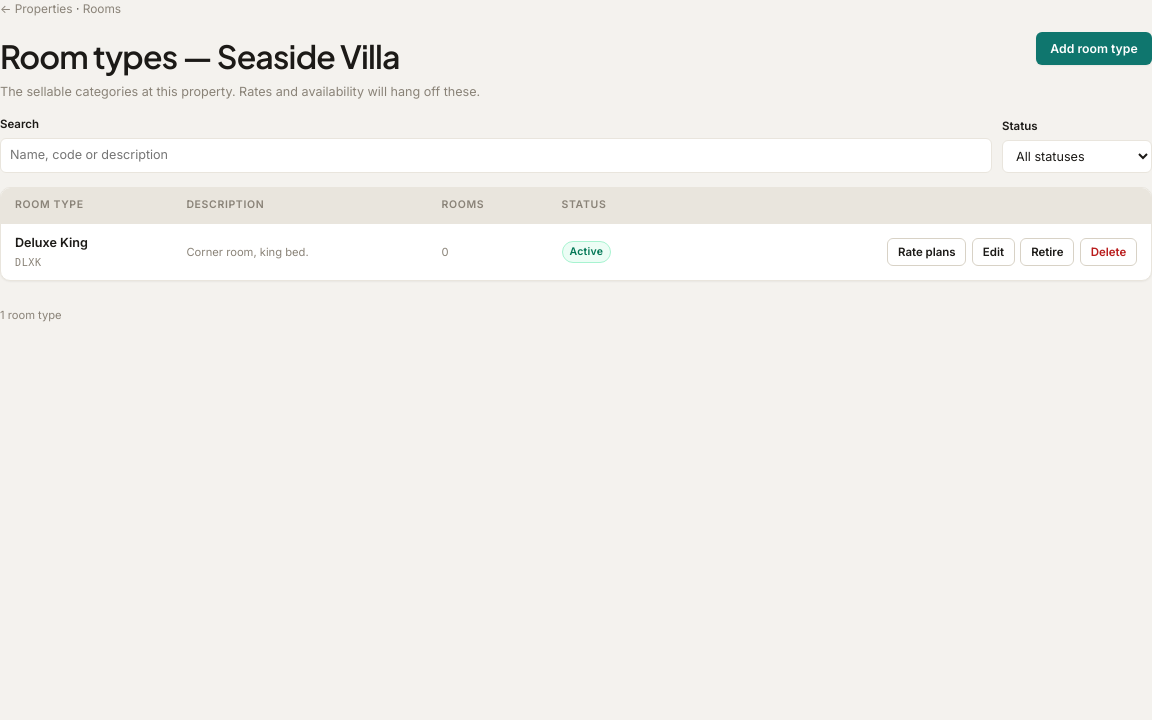
Scenario: RoomTypesPage — create and edit › surfaces a duplicate-name conflict from the API
Expected: the text "Deluxe King" is shown, [15,235,88,250]
Click the button "Edit" at (993, 252), box [972,238,1015,266]
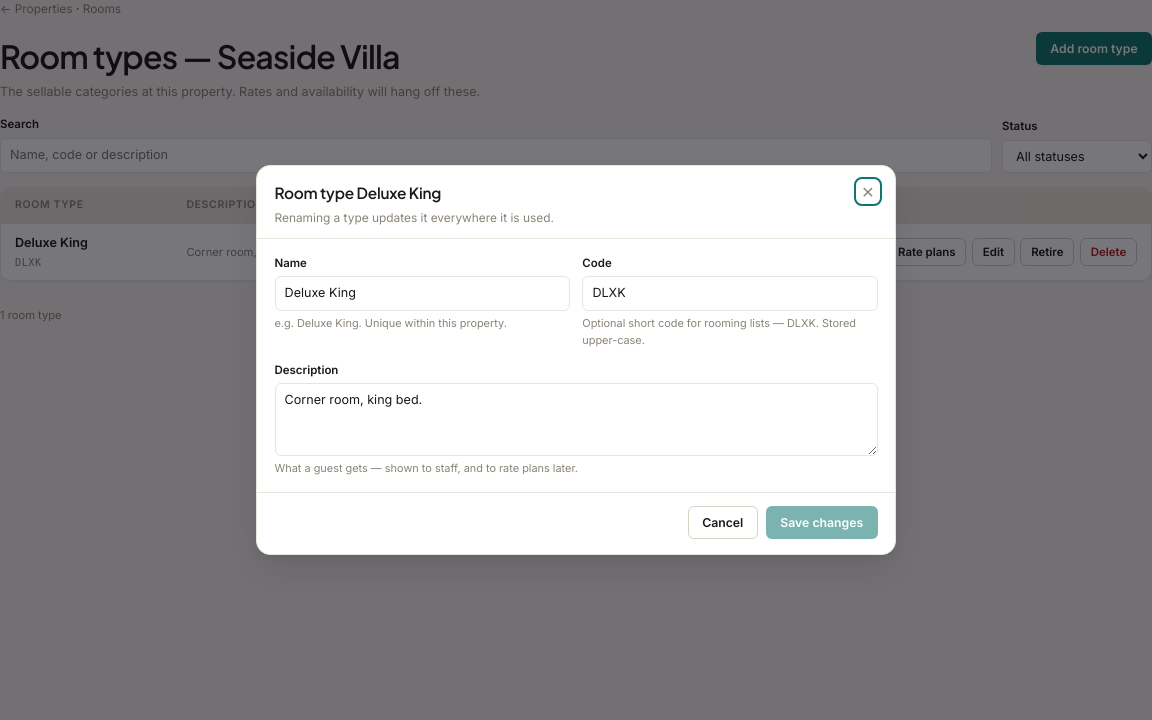
Replace the text in the field labelled "Name" with "Garden Suite" at (422, 294), box [274,276,570,311]
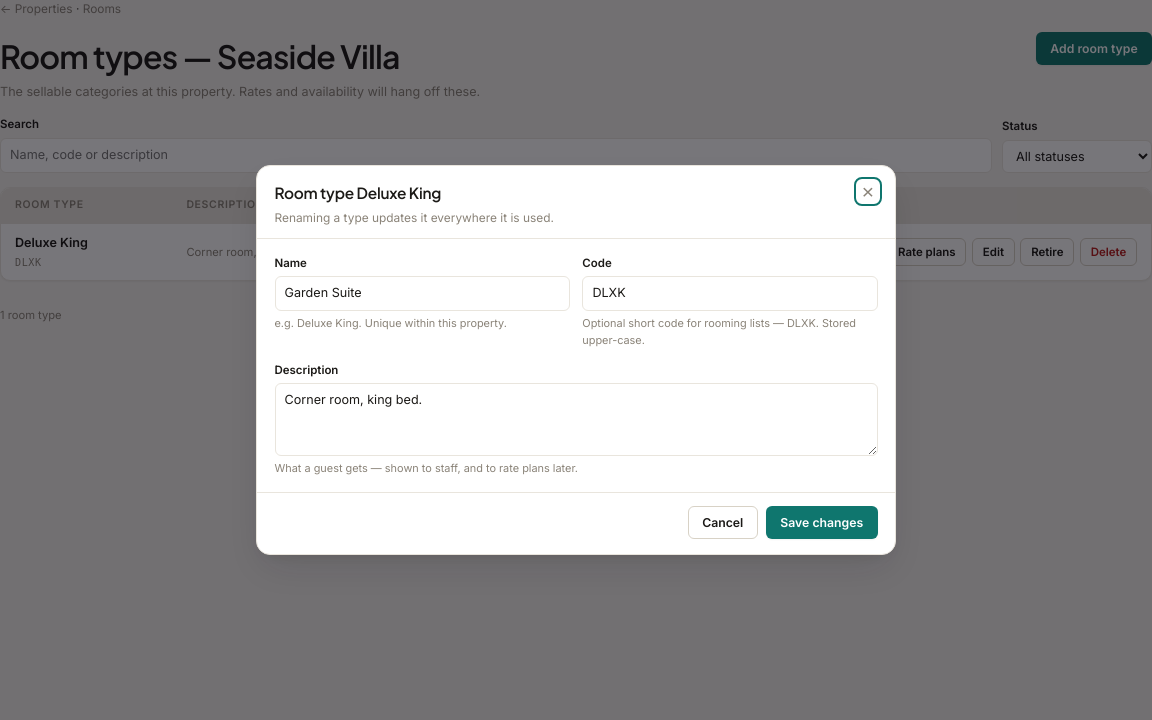
Click the button "Save changes" at (822, 522), box [766,506,878,539]
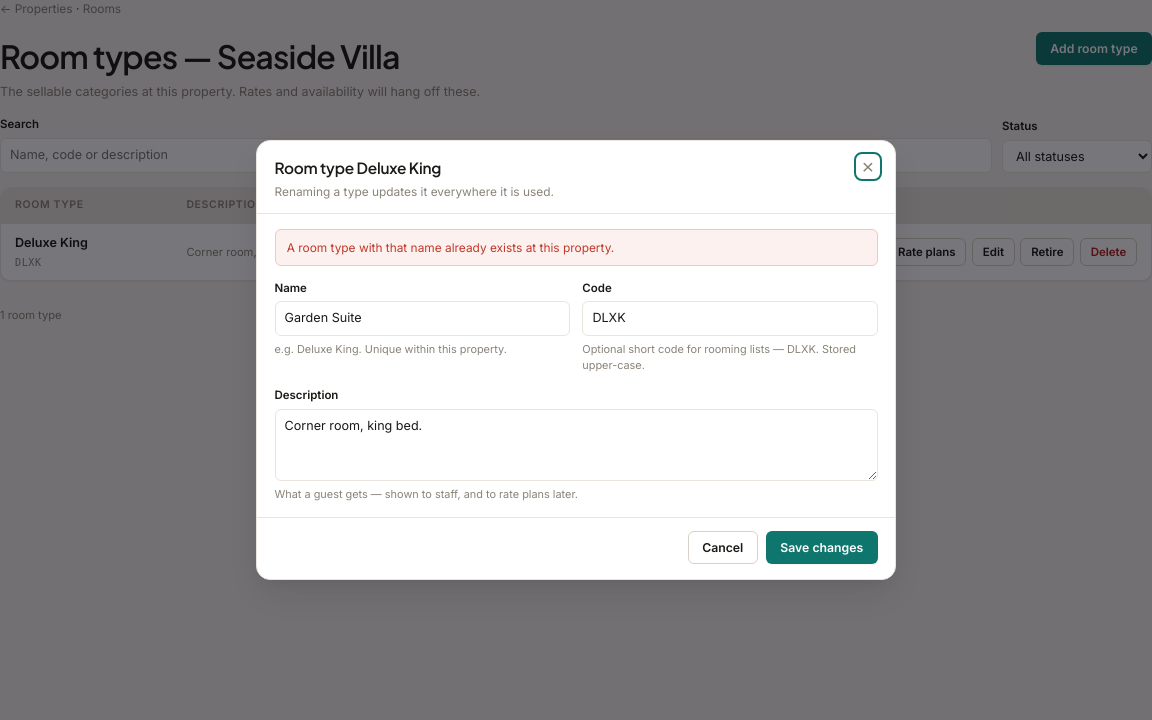
Expected: the message reads "A room type with that name already exists at this property.", [287,240,614,255]
